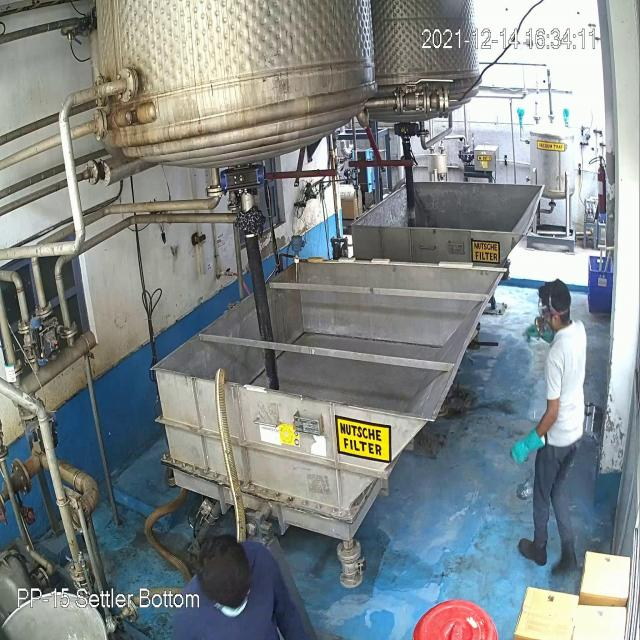Gloves: (506, 424, 548, 471)
